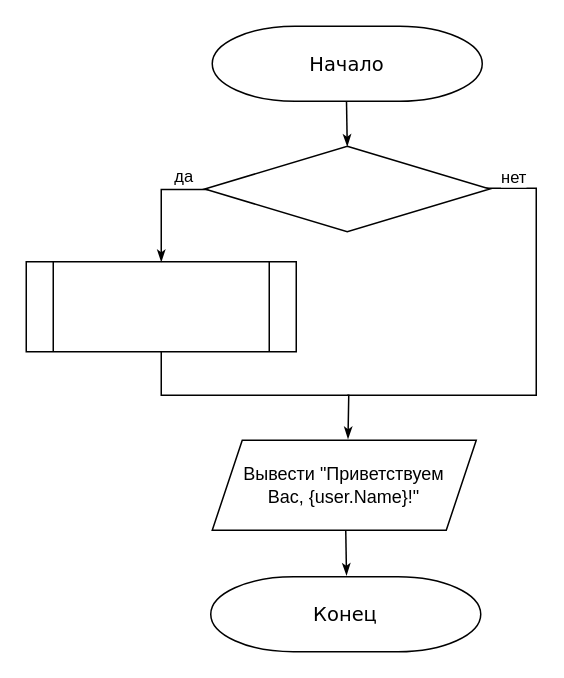
The diagram is 564 pixels wide and 678 high, and some of its shapes have lost their labels. Here are the shapes that lost their labels. From the top down, the centre of each, then its label:
At [346,188]: "user.IsPremium == false".
At [160,306]: "Вызвать метод ShowAds()".
